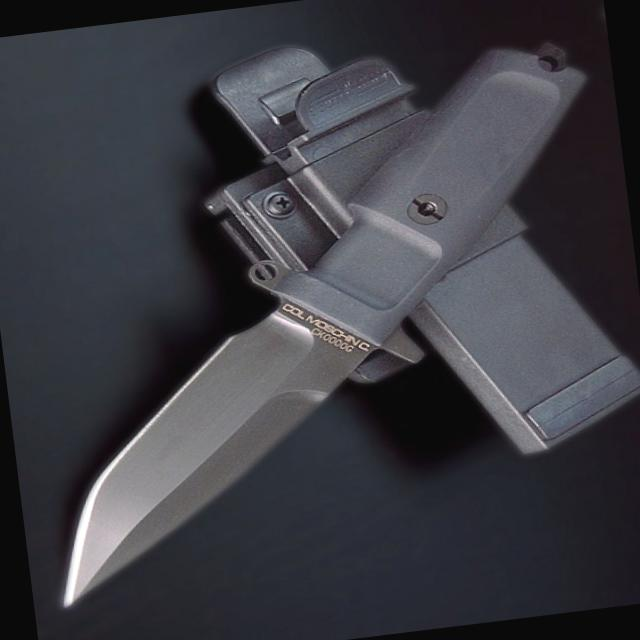knife: (8, 234, 462, 618)
